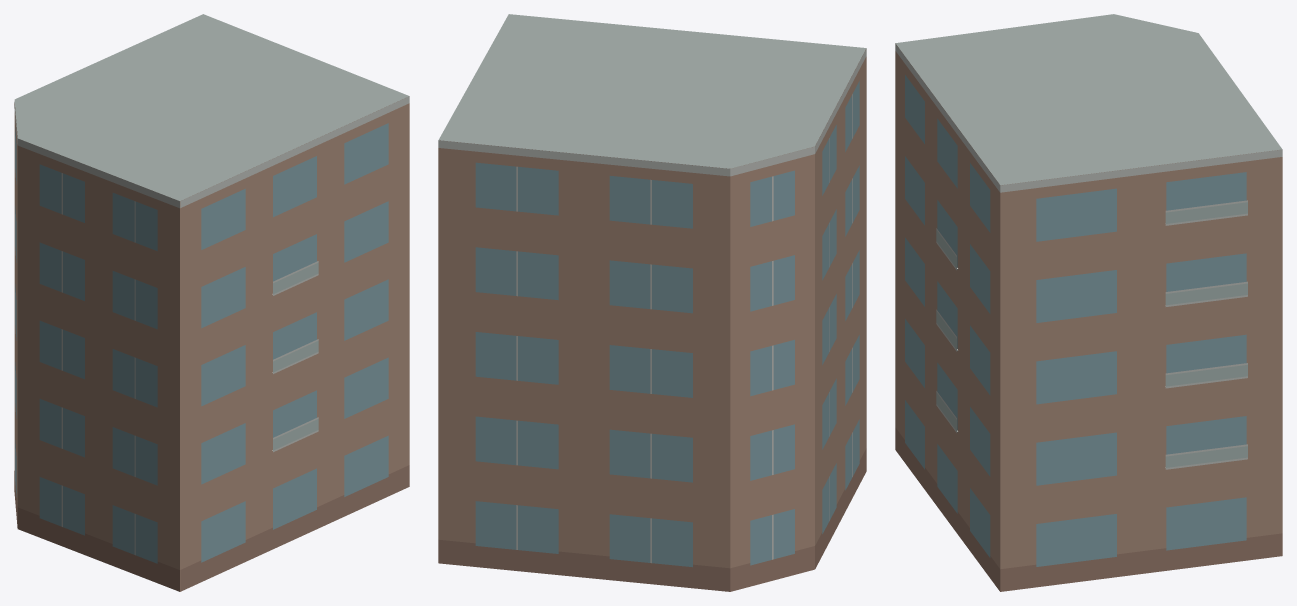
The model's file is survey-upis-32992372.glb.
3 renders of one model, left to right at view 1: azimuth 30°, elevation 25°; view 2: azimuth 150°, elevation 25°; view 3: azimuth 270°, elevation 25°, orthographic. The views are drawn at different scales.
Parts seen in each view (by area): view 1: survey-upis-32992372.tmp; view 2: survey-upis-32992372.tmp; view 3: survey-upis-32992372.tmp.
Part boxes in pixels (bbox=[...]): survey-upis-32992372.tmp: bbox=[14, 14, 409, 591]; survey-upis-32992372.tmp: bbox=[438, 14, 866, 591]; survey-upis-32992372.tmp: bbox=[895, 14, 1282, 591].
Bounding box in the file's own units: 12.12 × 13.4 × 11.58.
